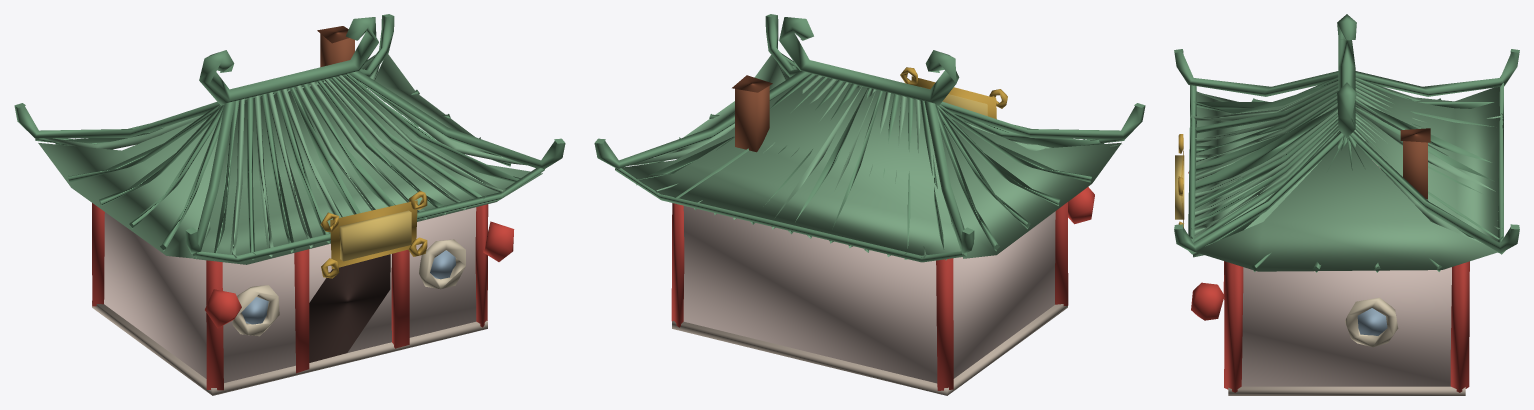
The model's file is chinese.glb.
3 renders of one model, left to right at view 1: azimuth 30°, elevation 25°; view 2: azimuth 150°, elevation 25°; view 3: azimuth 270°, elevation 25°, orthographic.
Parts seen in each view (by area): view 1: chinese; view 2: chinese; view 3: chinese.
Boxes of the visible parts, left/top/right/bottom form: chinese: left=14, top=14, right=565, bottom=395; chinese: left=594, top=14, right=1145, bottom=395; chinese: left=1174, top=14, right=1519, bottom=395.
Size of the model in its own units: 3.42 by 2.46 by 2.77.
